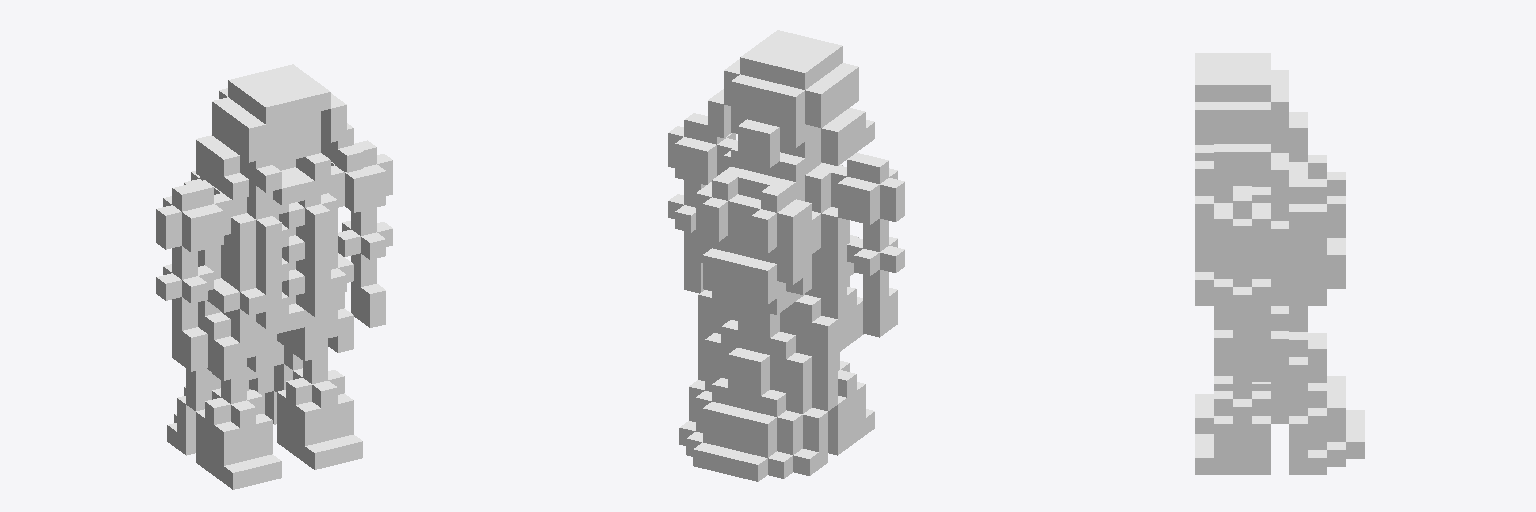
File: noob.obj
3 views of the same model, side by side, from view 1: azimuth 30°, elevation 25°; view 2: azimuth 150°, elevation 25°; view 3: azimuth 270°, elevation 25° (orthographic).
Visible parts, largest first — view 1: noob; view 2: noob; view 3: noob.
Boxes of the visible parts, x1,y1,x2,y2 form: noob: [156, 64, 392, 489]; noob: [668, 30, 904, 481]; noob: [1195, 53, 1364, 474].
Bounding box in the file's own units: 14 × 22 × 9.